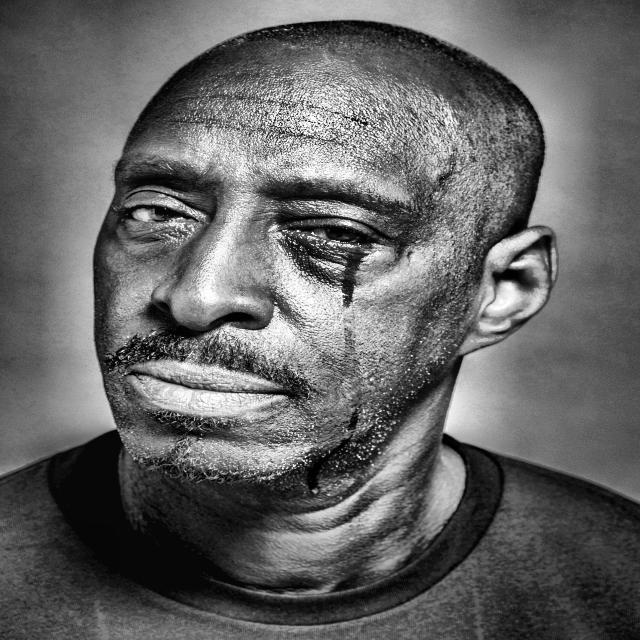sad: (105, 15, 550, 489)
